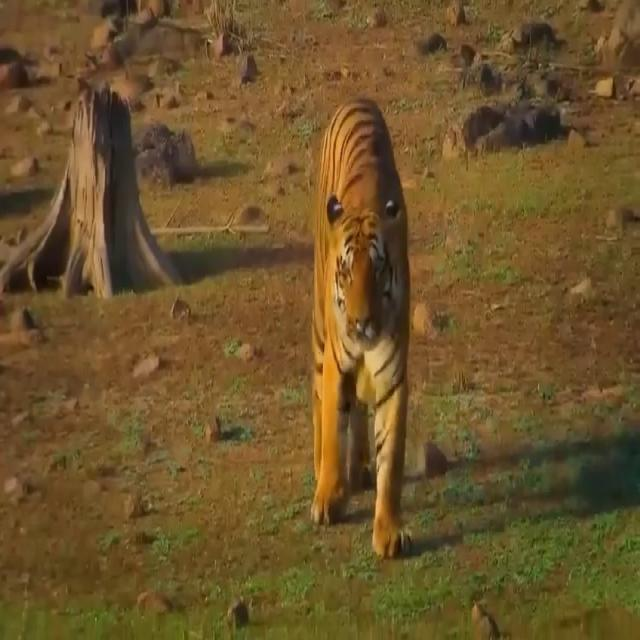tiger: (309, 90, 414, 560)
